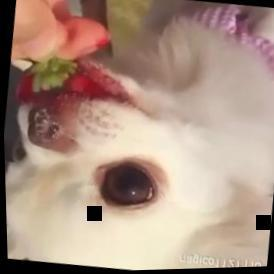nasal_discharge: (26, 103, 66, 148)
